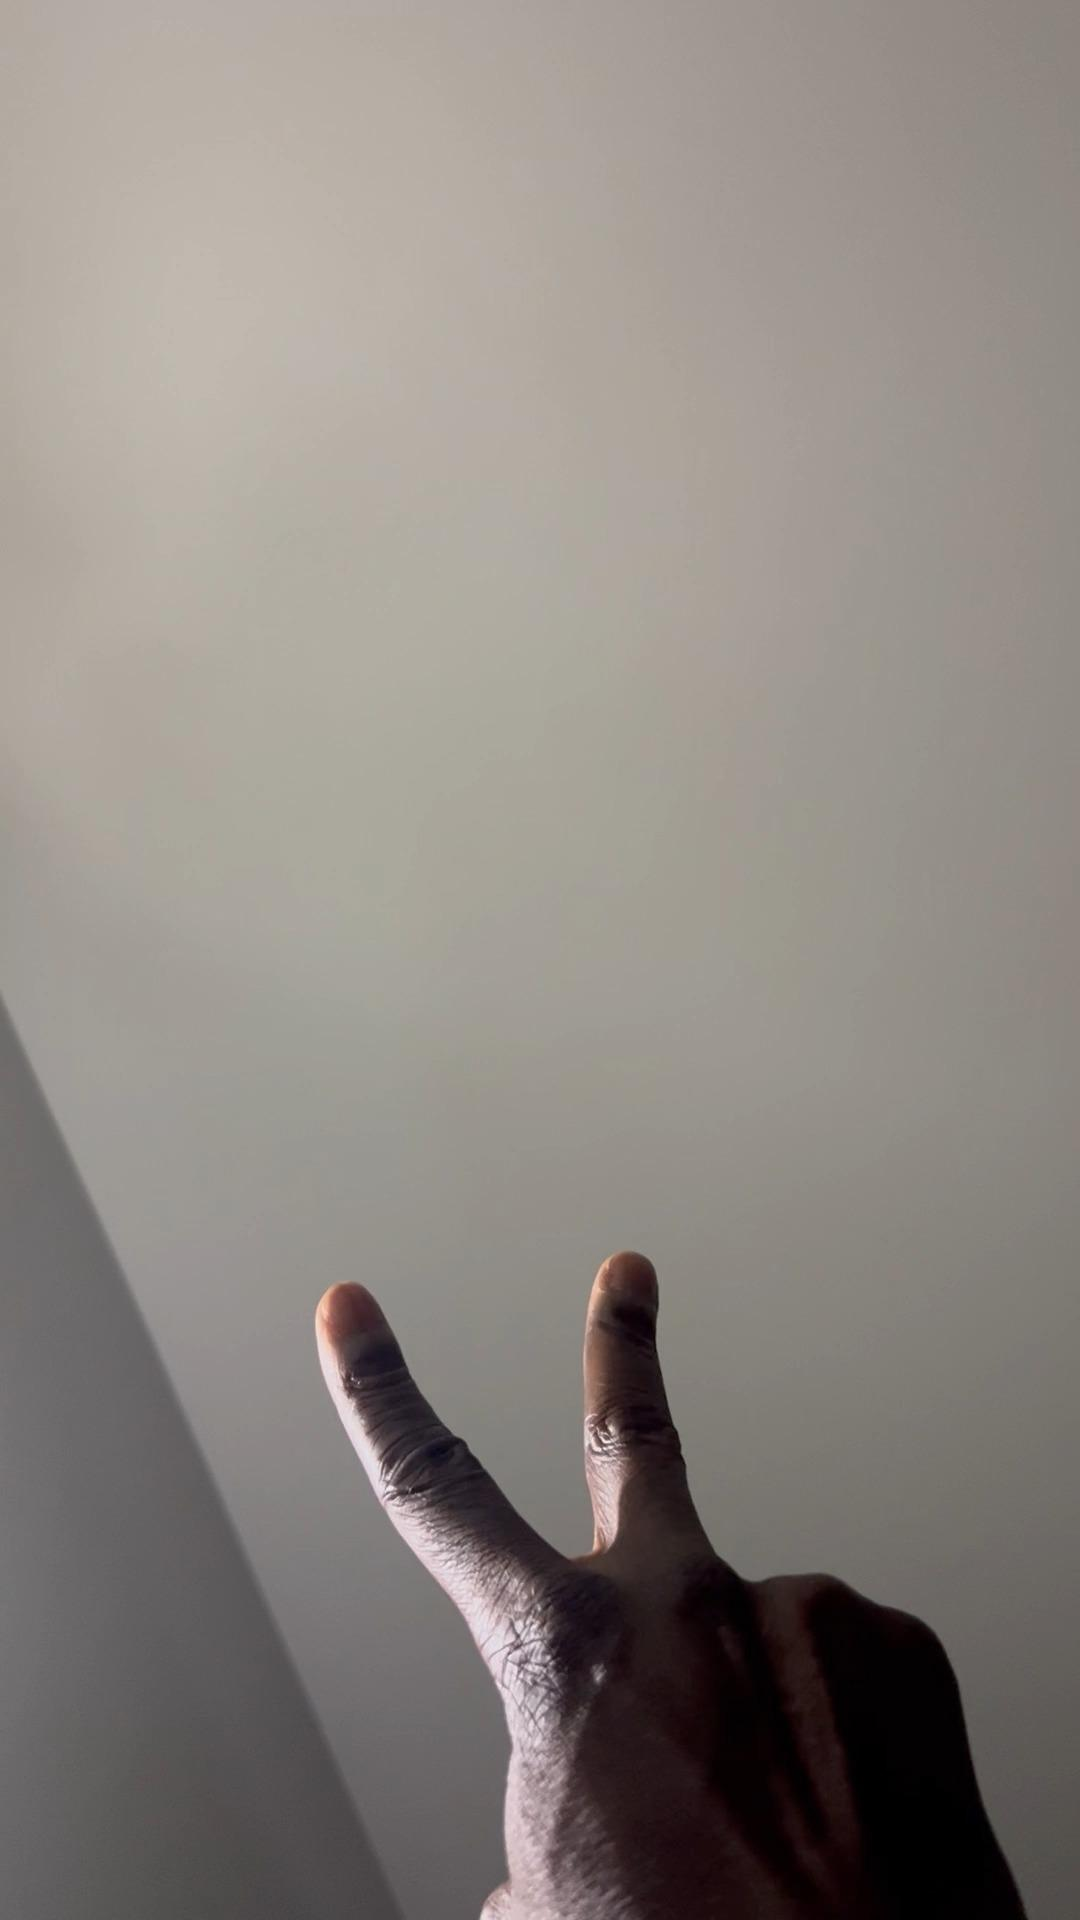Scissors: (316, 1250, 1022, 1920)
